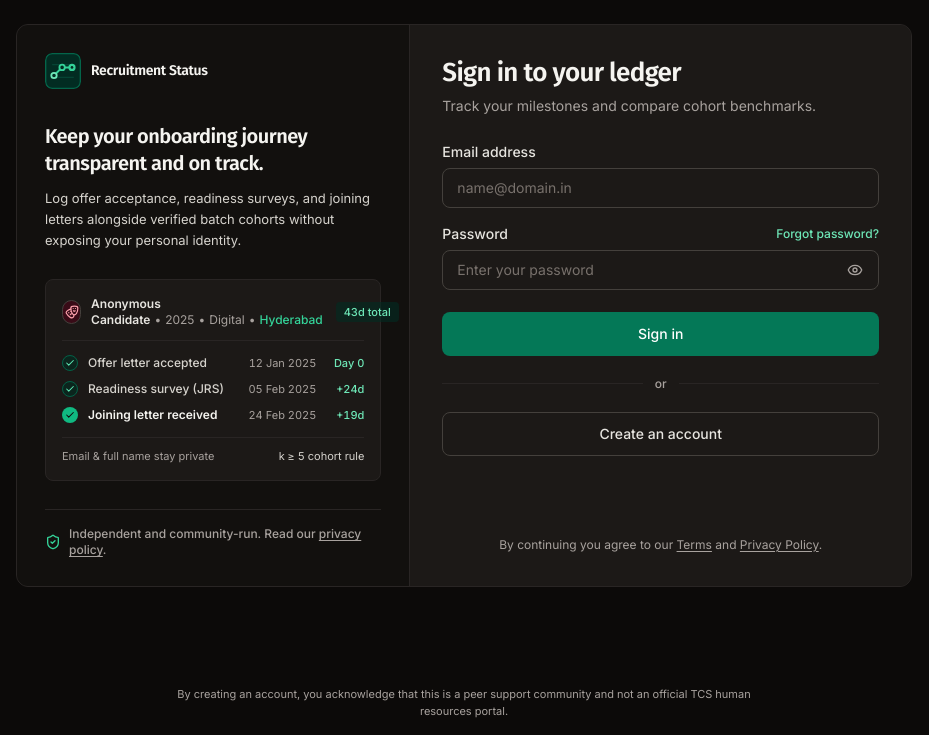
Scenario: LoginPage › shows the suspended copy on ACCOUNT_SUSPENDED
This screenshot has width=929, height=735.
Type "c@example.com" into the field labelled "Email address" at (661, 188), box x1=442 y1=168 x2=879 y2=208
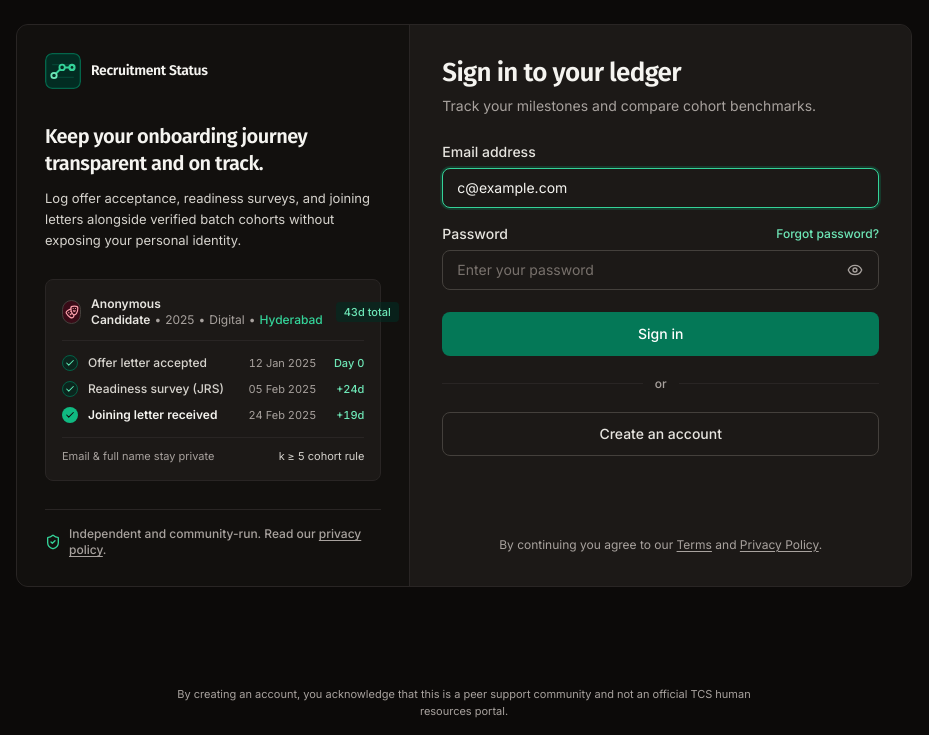
Type "password123" into the password field labelled "Password" at (661, 270), box x1=442 y1=250 x2=879 y2=290
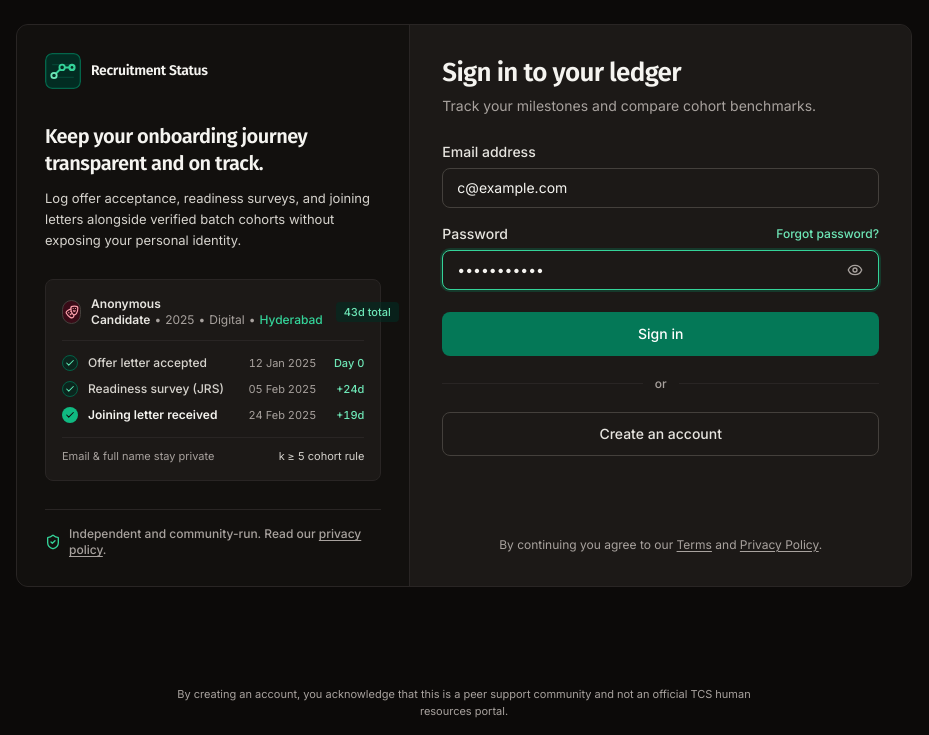
Click the button "Sign in" at (661, 334), box x1=442 y1=312 x2=879 y2=356
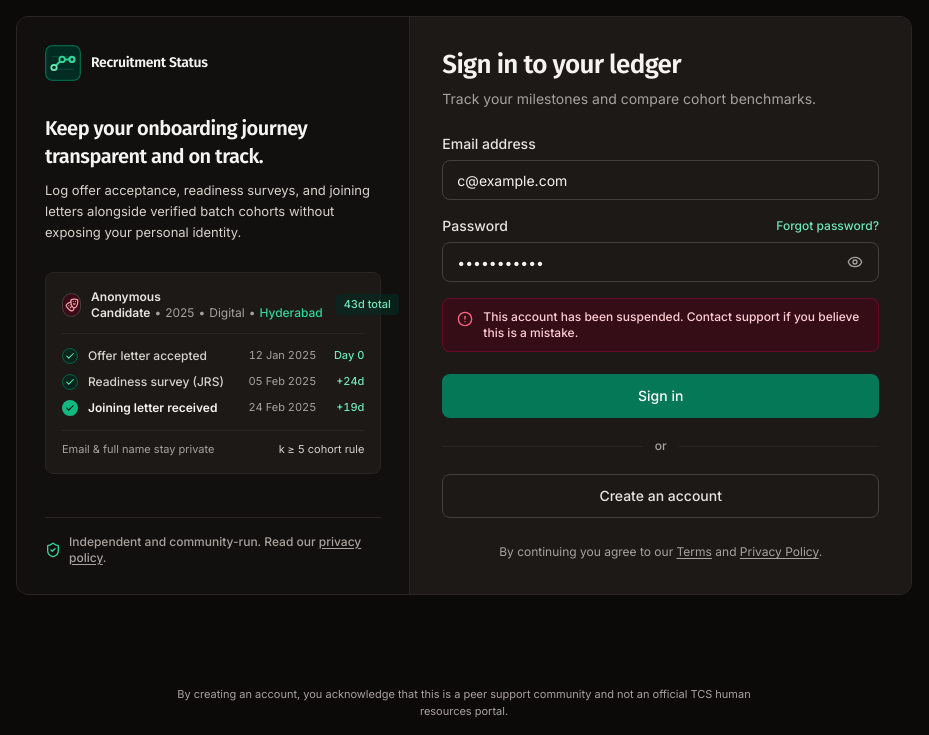
Expected: the message shows "suspended", x1=483 y1=309 x2=859 y2=340
